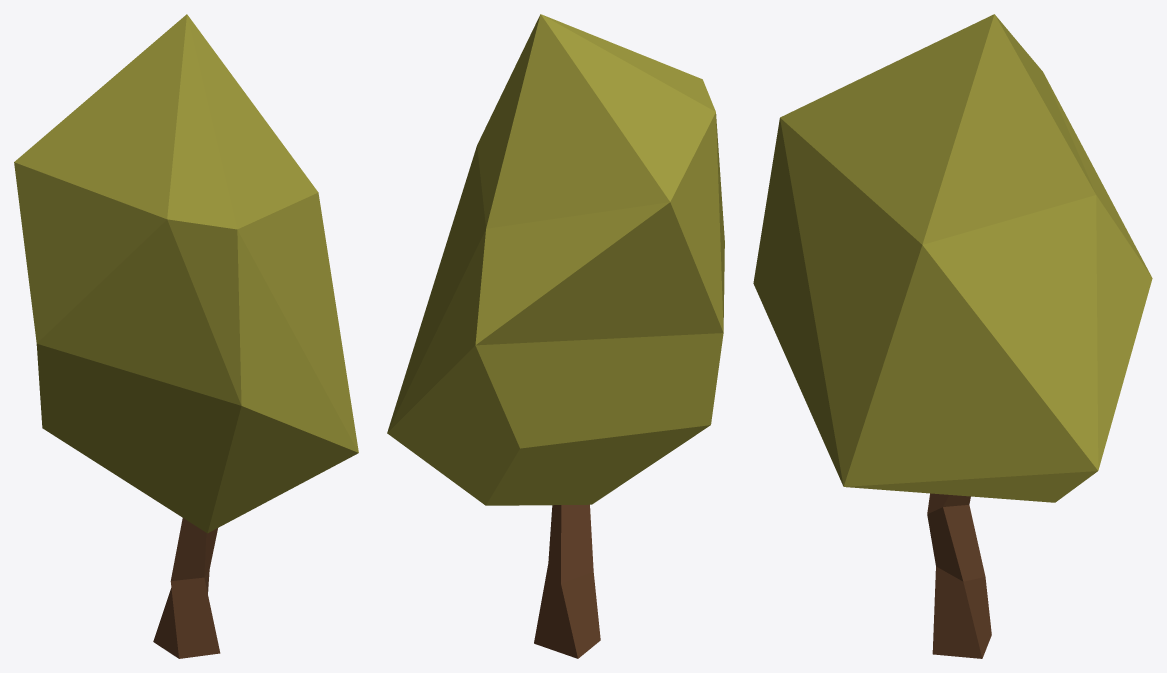
The model's file is Tree_51_Yellow.fbx.
The picture shows the model from 3 angles, left to right: view 1: azimuth 30°, elevation 25°; view 2: azimuth 150°, elevation 25°; view 3: azimuth 270°, elevation 25°; orthographic projection. The views are drawn at different scales.
Parts seen in each view (by area): view 1: Tree_51_Yellow_Part_2, Tree_51_Yellow_Part_1; view 2: Tree_51_Yellow_Part_2, Tree_51_Yellow_Part_1; view 3: Tree_51_Yellow_Part_2, Tree_51_Yellow_Part_1.
Boxes of the visible parts, x1,y1,x2,y2 form: Tree_51_Yellow_Part_2: (14,14,358,533); Tree_51_Yellow_Part_1: (153,518,220,658); Tree_51_Yellow_Part_2: (387,14,724,505); Tree_51_Yellow_Part_1: (534,504,600,658); Tree_51_Yellow_Part_2: (753,14,1152,502); Tree_51_Yellow_Part_1: (927,493,991,658).
Bounding box in the file's own units: 257 × 577 × 327.
